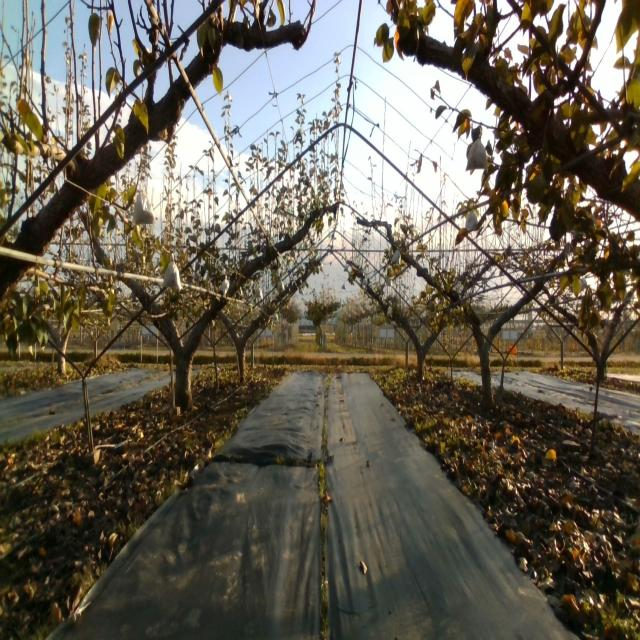pearbags: (464, 128, 488, 170), (132, 190, 156, 228), (162, 250, 182, 293), (465, 209, 479, 233)
